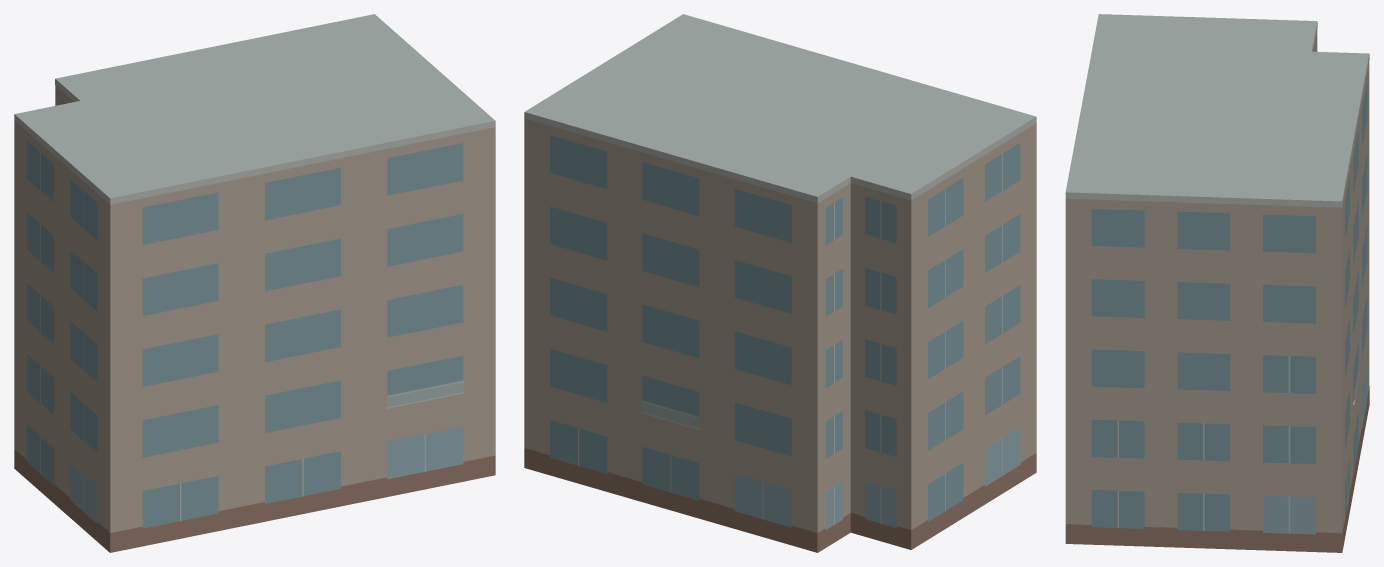
Rendered from survey-upis-32837654.glb.
3 views of the same model, side by side, from view 1: azimuth 30°, elevation 25°; view 2: azimuth 150°, elevation 25°; view 3: azimuth 270°, elevation 25° (orthographic).
Parts seen in each view (by area): view 1: survey-upis-32837654.tmp; view 2: survey-upis-32837654.tmp; view 3: survey-upis-32837654.tmp.
Part boxes in pixels (<box>): survey-upis-32837654.tmp: <box>14,14,495,552</box>; survey-upis-32837654.tmp: <box>524,14,1036,552</box>; survey-upis-32837654.tmp: <box>1065,14,1369,552</box>.
Size of the model in its own units: 15.62 by 13.65 by 10.71.
